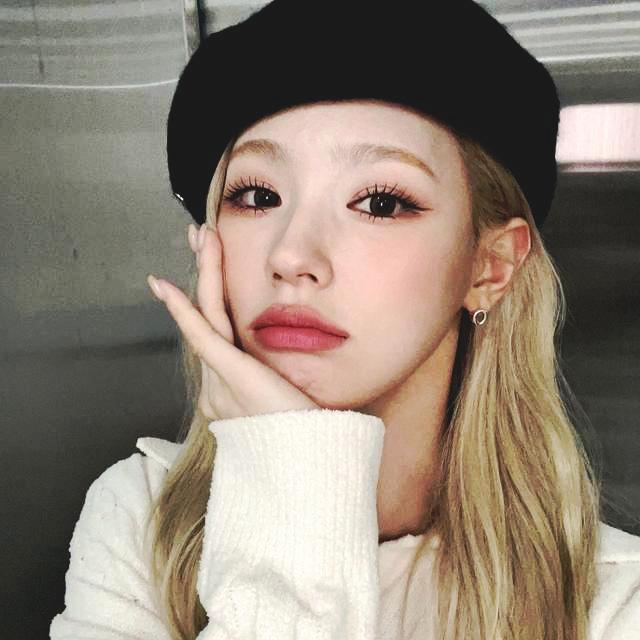TOPI: (169, 0, 558, 226)
